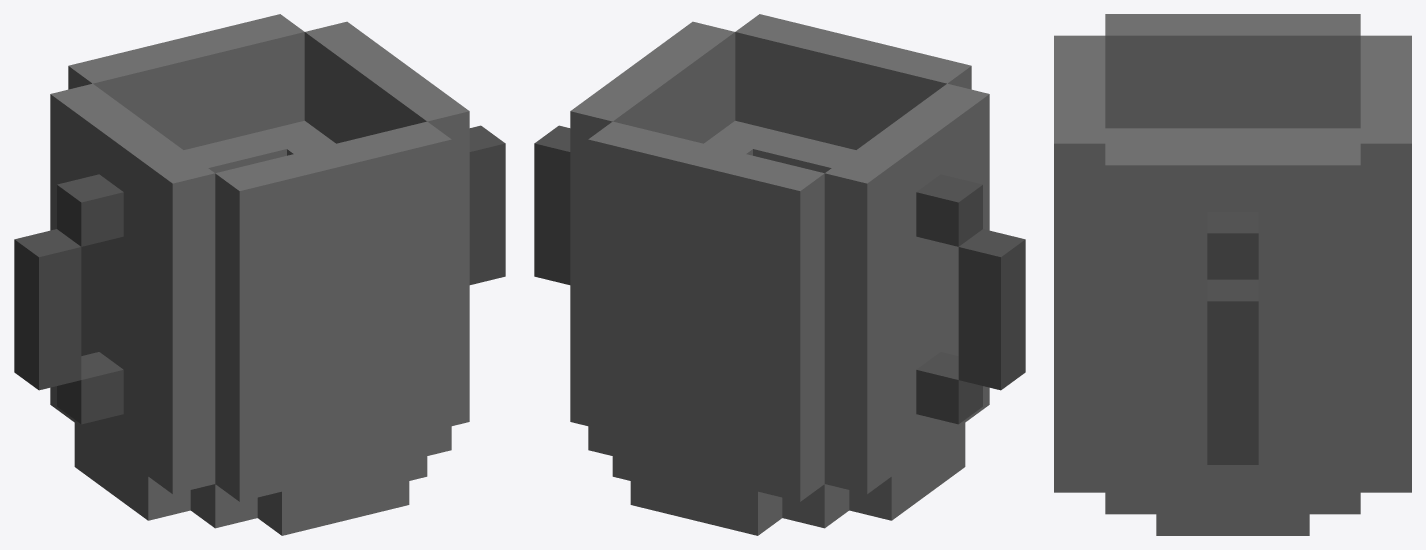
The model's file is prop_pot_silver.glb.
3 views of the same model, side by side, from view 1: azimuth 30°, elevation 25°; view 2: azimuth 150°, elevation 25°; view 3: azimuth 270°, elevation 25° (orthographic). The views are drawn at different scales.
Parts seen in each view (by area): view 1: prop_pot_silver; view 2: prop_pot_silver; view 3: prop_pot_silver.
Part boxes in pixels (left/top/right/bottom): prop_pot_silver: left=14, top=14, right=505, bottom=535; prop_pot_silver: left=534, top=14, right=1025, bottom=535; prop_pot_silver: left=1054, top=14, right=1411, bottom=535.
Size of the model in its own units: 1.1 by 0.8 by 0.7.
Materials: 1 (1 with a texture image).
